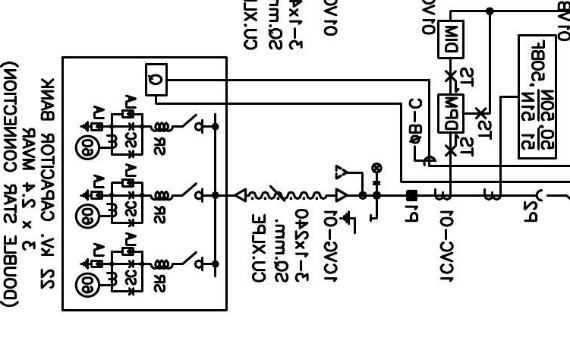22_cap_bank: (61, 56, 229, 312)
22_gs: (338, 210, 372, 235)
22_ll: (371, 162, 383, 186)
DIM: (437, 19, 465, 60)
DPM: (436, 93, 465, 134)
Q: (144, 62, 168, 97)
terminator_single: (234, 187, 247, 203)
terminator_w_future: (335, 164, 364, 203)
